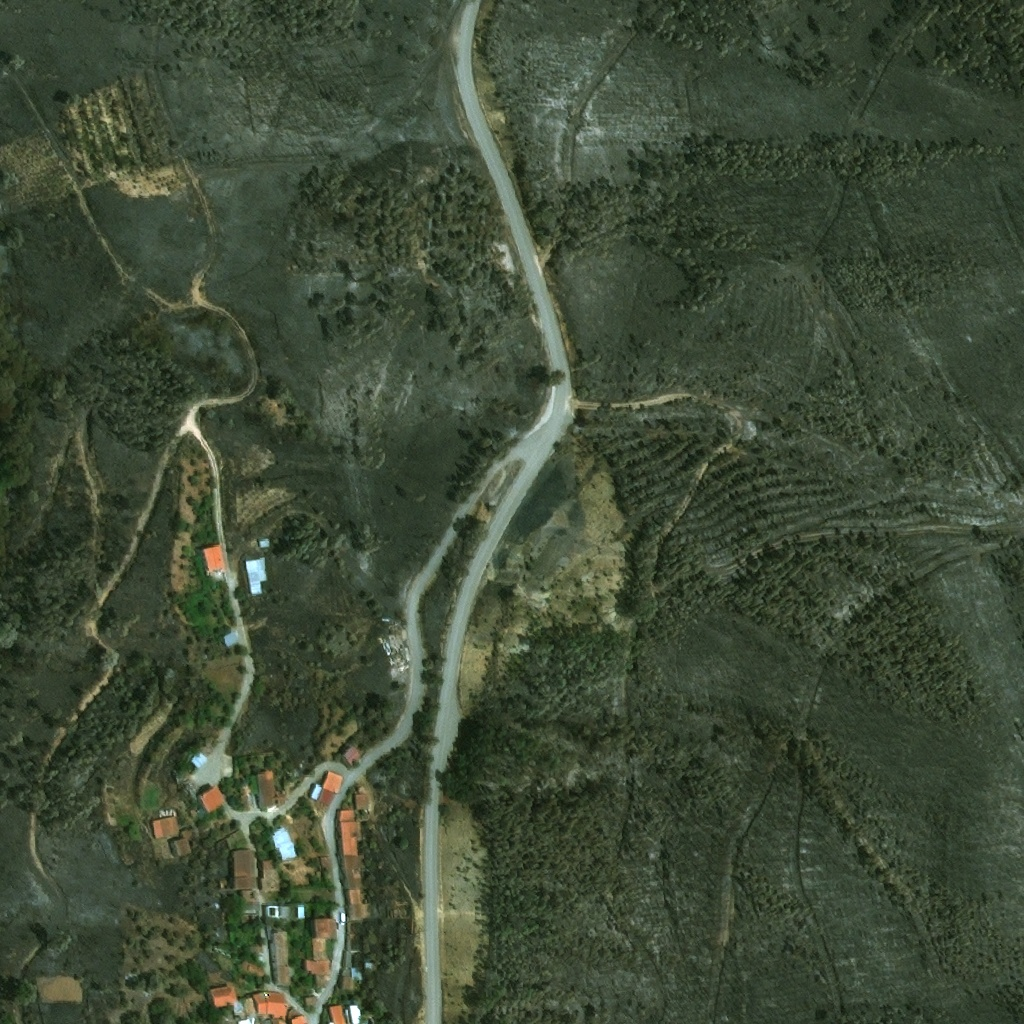0 no-damage: (334, 808, 368, 918), (306, 917, 339, 976), (238, 991, 290, 1023), (308, 769, 345, 807), (228, 848, 257, 891), (269, 932, 291, 986), (258, 769, 286, 806), (197, 783, 227, 813), (152, 809, 181, 840), (246, 558, 269, 595), (271, 827, 296, 861), (167, 828, 195, 858), (201, 544, 227, 575), (208, 981, 240, 1006), (343, 922, 360, 967), (259, 860, 281, 892), (240, 889, 261, 918), (238, 959, 268, 977), (240, 784, 255, 814), (265, 905, 292, 920), (347, 1004, 368, 1023), (190, 750, 209, 770), (343, 746, 362, 766), (331, 1005, 350, 1023), (338, 977, 360, 991), (342, 968, 363, 982), (223, 632, 238, 647), (356, 794, 368, 808), (291, 1014, 309, 1023), (258, 538, 272, 548), (366, 960, 377, 970)
3 destroyed: (386, 618, 413, 664)
